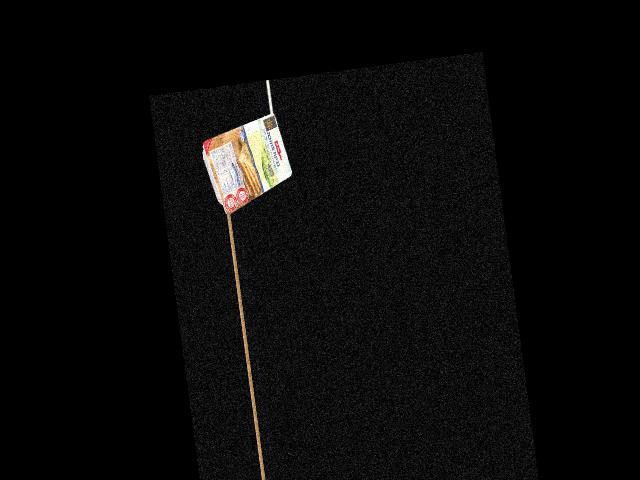cheese: (201, 120, 293, 202)
